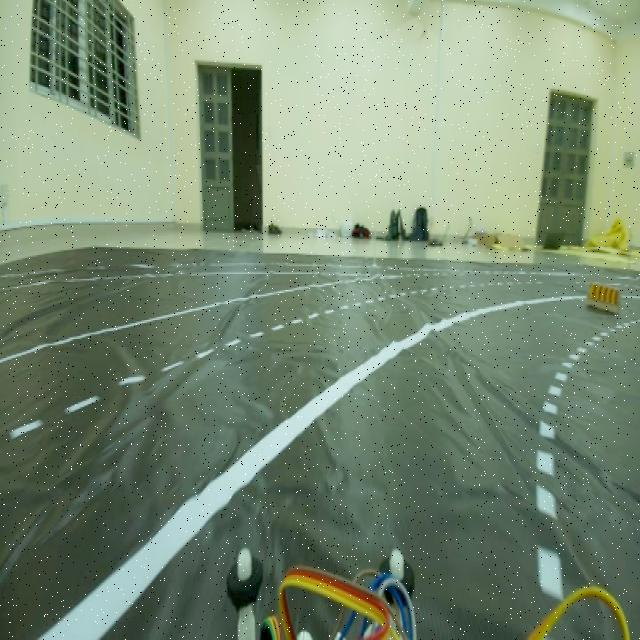roadblock: (579, 276, 623, 326)
